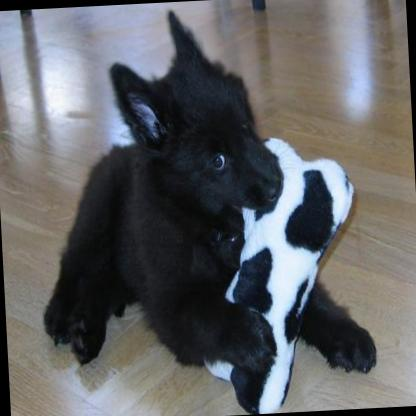groenendael: (24, 0, 378, 416)
